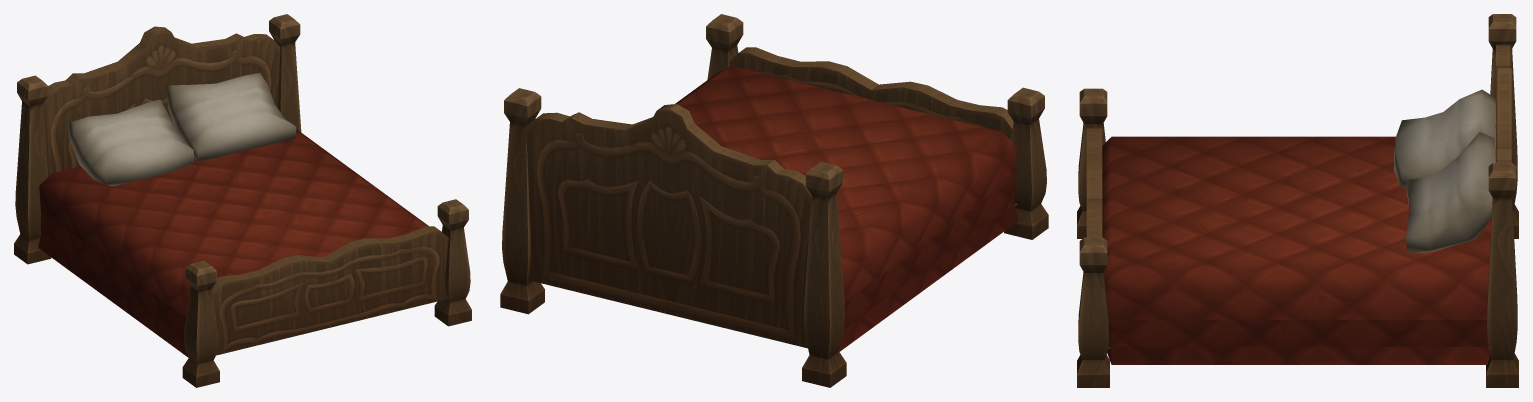
File: Bed.FBX
3 renders of one model, left to right at view 1: azimuth 30°, elevation 25°; view 2: azimuth 150°, elevation 25°; view 3: azimuth 270°, elevation 25°, orthographic. The views are drawn at different scales.
Parts seen in each view (by area): view 1: Bed; view 2: Bed; view 3: Bed.
Part boxes in pixels (box(x1,y1,x2,y2)): Bed: box(14, 14, 471, 387); Bed: box(500, 14, 1048, 387); Bed: box(1077, 14, 1518, 387).
Size of the model in its own units: 2089 by 1424 by 2394.
